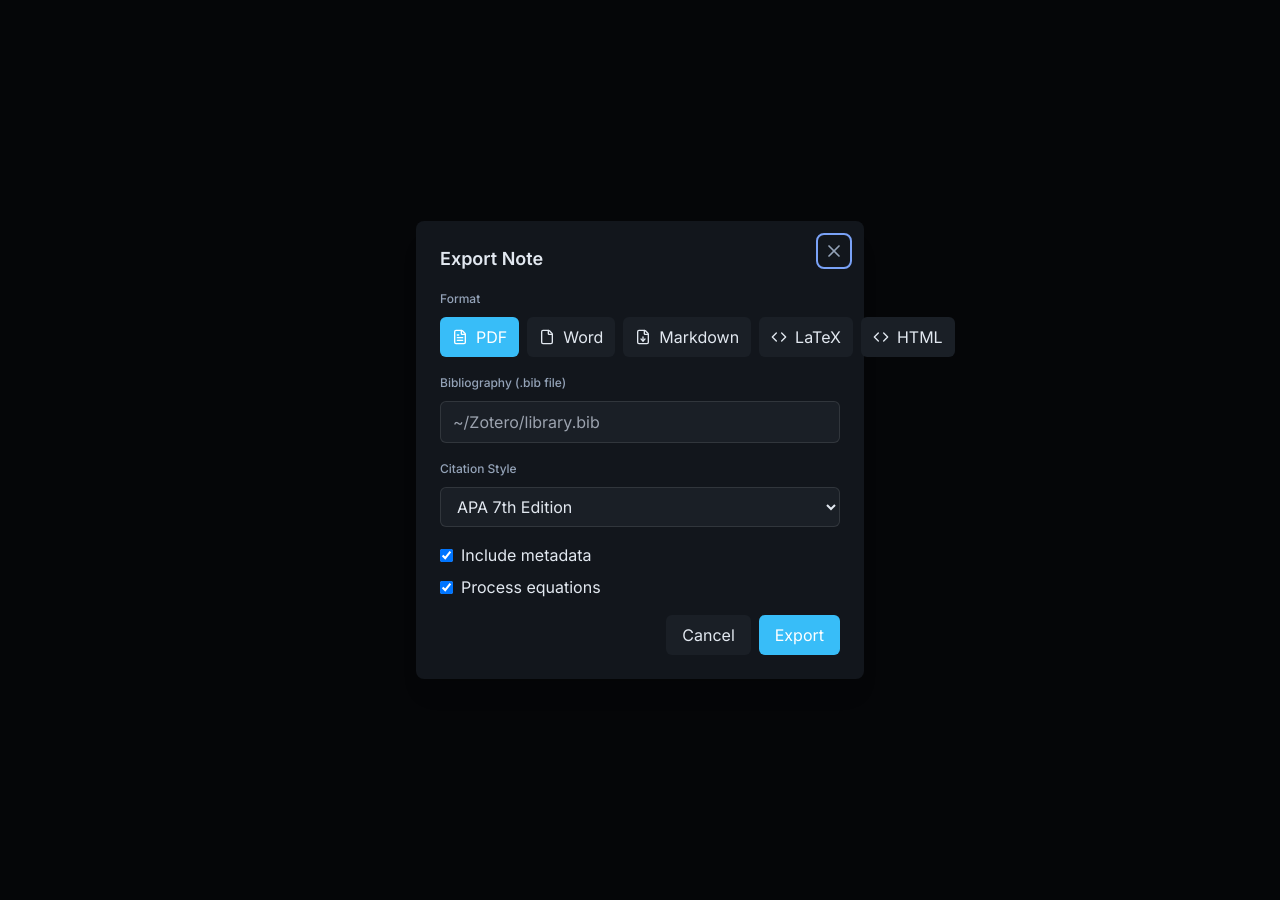
ExportDialog Component › Export Results › shows error message on failed export
The width and height of the screenshot is (1280, 900).
Click the button "Export" at (799, 635), box [759,615,840,655]
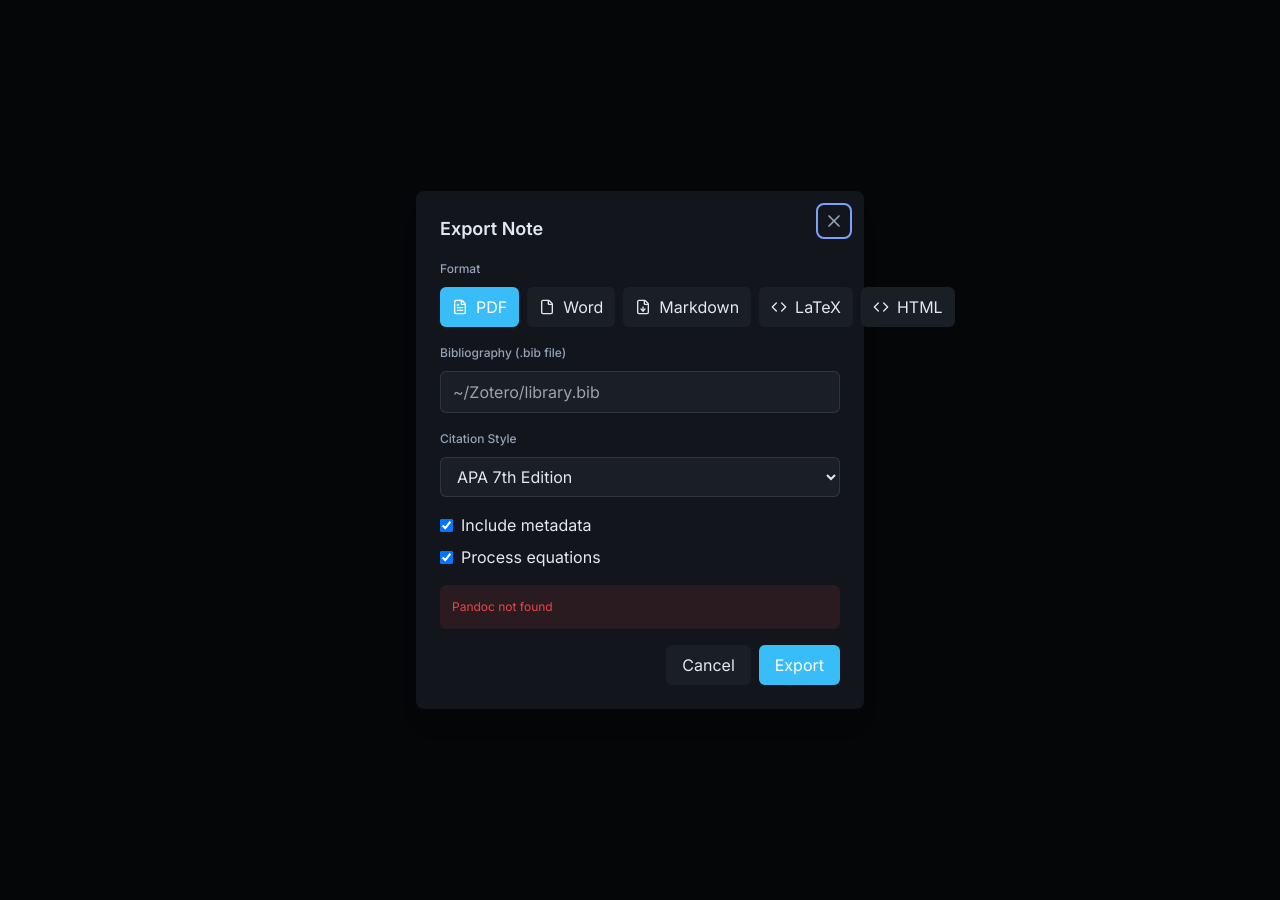
Result: the text "Pandoc not found" is shown at [440,585,840,629]
